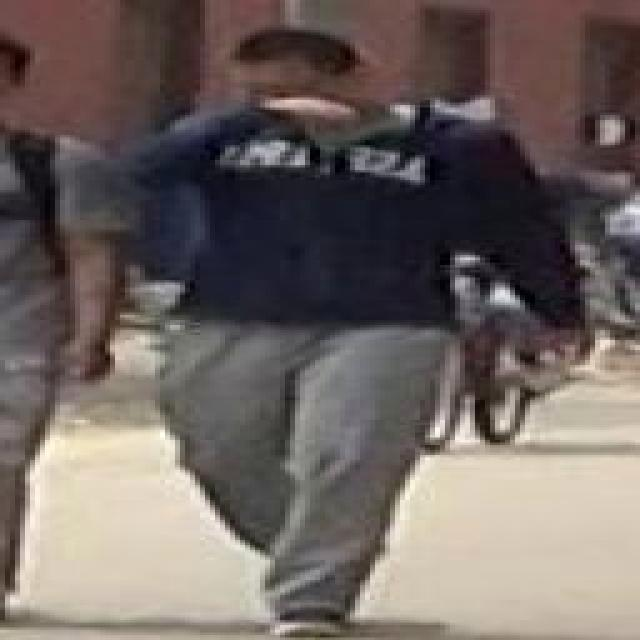adult: (123, 37, 601, 635)
